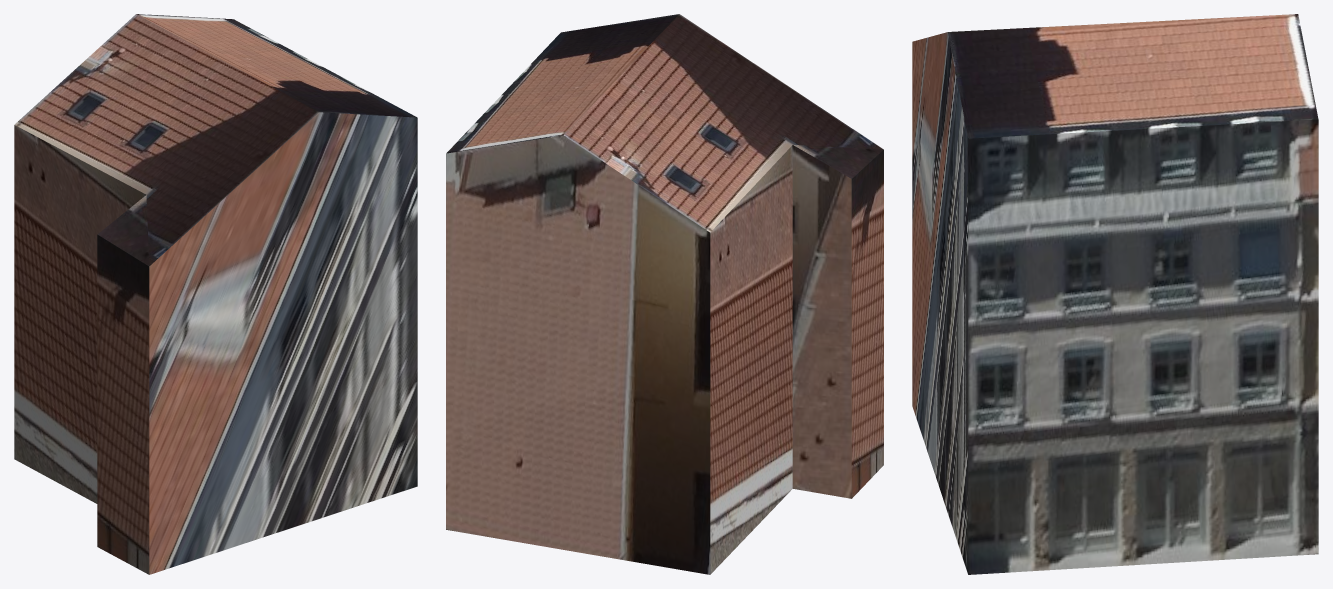
3 views of the same model, side by side, from view 1: azimuth 30°, elevation 25°; view 2: azimuth 150°, elevation 25°; view 3: azimuth 270°, elevation 25° (orthographic). The views are drawn at different scales.
Parts seen in each view (by area): view 1: Z_UP; view 2: Z_UP; view 3: Z_UP.
Boxes of the visible parts, box(x1,y1,x2,y2) form: Z_UP: box(14, 14, 417, 574); Z_UP: box(446, 14, 883, 574); Z_UP: box(912, 14, 1318, 574).
Size of the model in its own units: 11.79 by 15.15 by 11.59.
2 materials, 1 textured.
